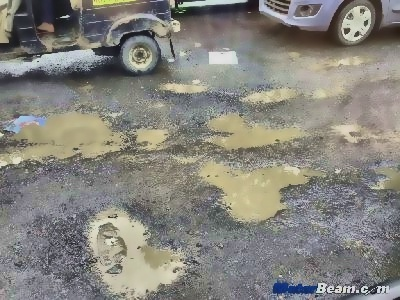pothole: (77, 200, 190, 298), (0, 103, 130, 169), (194, 155, 312, 226), (202, 110, 310, 149), (243, 83, 301, 104), (131, 123, 172, 150), (367, 162, 399, 194), (158, 79, 209, 95)
